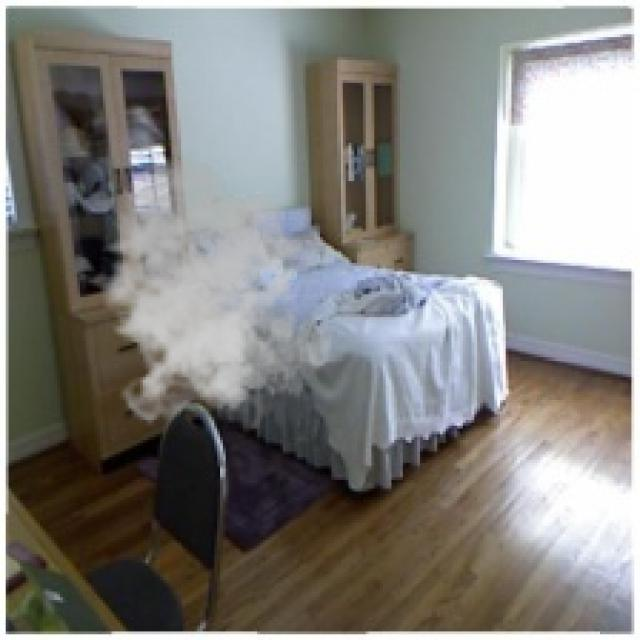smoke: (77, 157, 332, 429)
